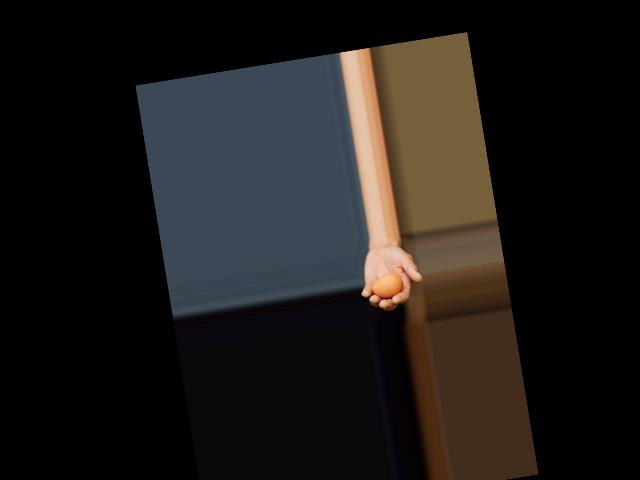egg: (369, 272, 404, 299)
